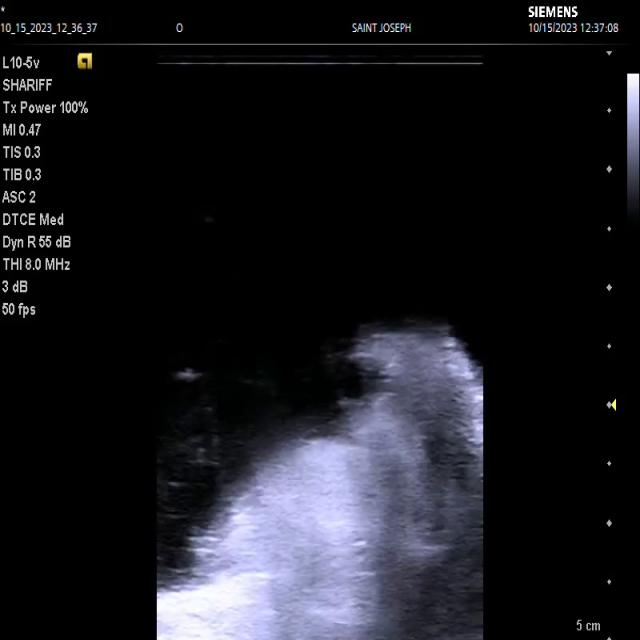tissue: (158, 319, 482, 640)
